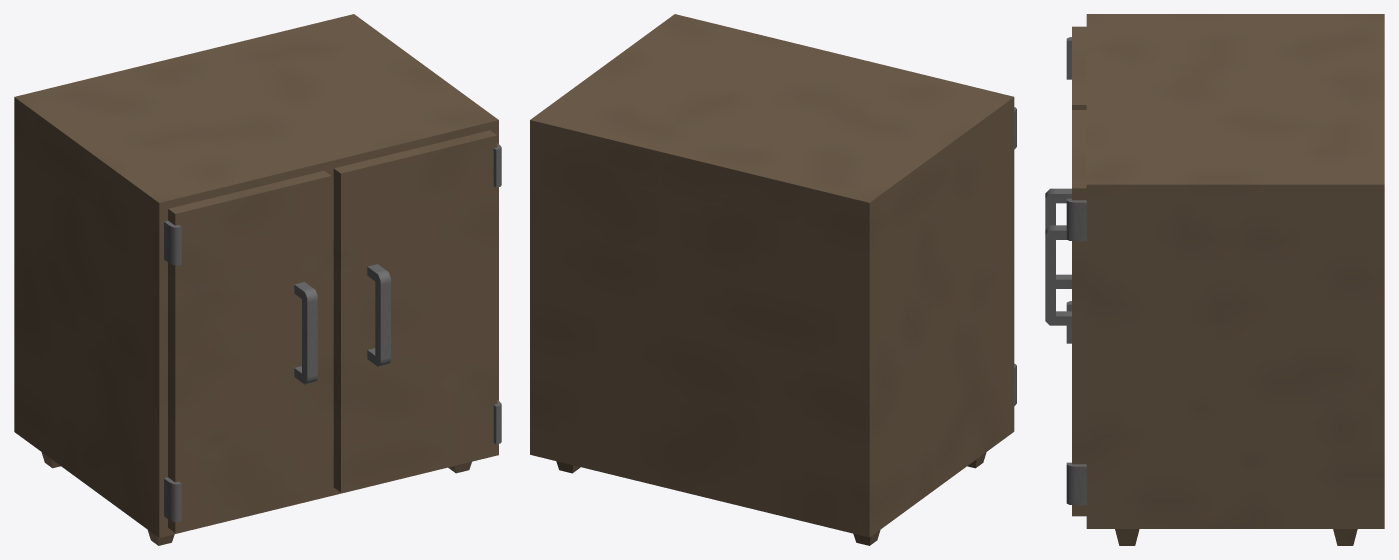
File: ClosetSmall.fbx
3 renders of one model, left to right at view 1: azimuth 30°, elevation 25°; view 2: azimuth 150°, elevation 25°; view 3: azimuth 270°, elevation 25°, orthographic. The views are drawn at different scales.
Parts seen in each view (by area): view 1: Cube.071; view 2: Cube.071; view 3: Cube.071.
Part boxes in pixels (x1=…): Cube.071: x1=14, y1=14, x2=501, y2=545; Cube.071: x1=530, y1=14, x2=1016, y2=545; Cube.071: x1=1045, y1=14, x2=1384, y2=545.
Size of the model in its own units: 107 by 108 by 89.84.
